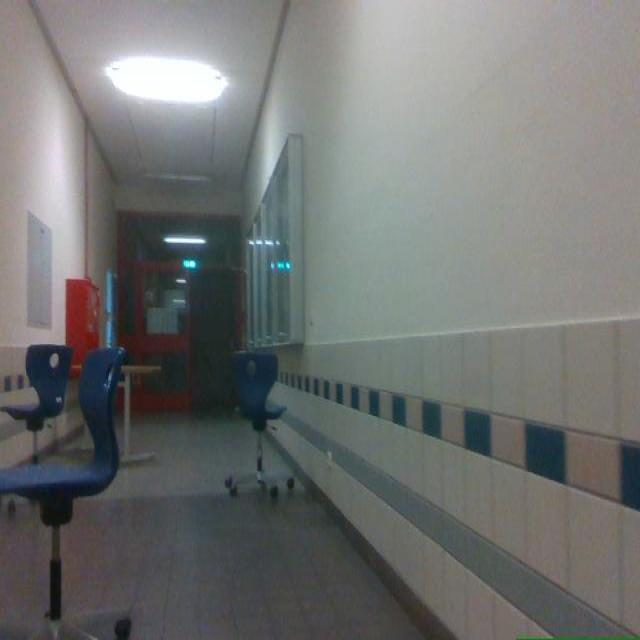objects: (0, 349, 124, 639), (225, 352, 293, 497), (0, 344, 72, 463), (119, 364, 161, 461)
